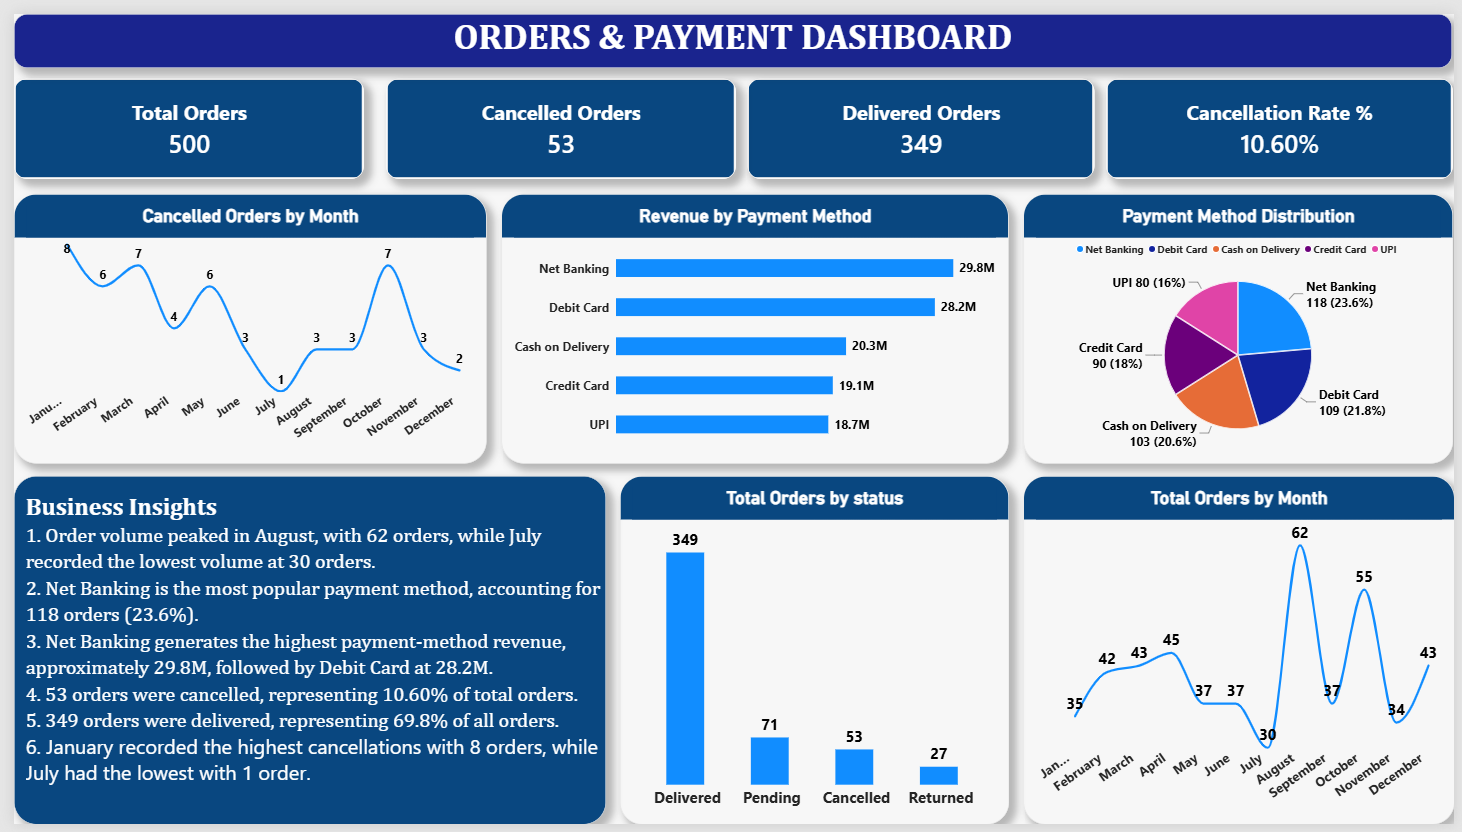

The page's visual inventory and layout, read from the dashboard file:
{"tool":"powerbi","page":{"name":"Orders & Payment Dashboard","canvas":[1920,1080],"ordinal":3},"visuals":[{"type":"cardVisual","fields":{"Data":["orders.Total Orders"]},"box":[0,86.8,467,134.3],"z":0},{"type":"cardVisual","fields":{"Data":["orders.Delivered Orders"]},"box":[977.4,86.8,462.9,134.3],"z":1000},{"type":"cardVisual","fields":{"Data":["orders.Cancelled Orders"]},"box":[495.9,86.8,467,134.3],"z":2000},{"type":"cardVisual","fields":{"Data":["orders.Cancellation Rate %"]},"box":[1456.8,86.8,462.9,134.3],"z":3000},{"type":"barChart","title":"Revenue by Payment Method","fields":{"Category":["orders.payment_method"],"Y":["order_items.Total Revenue"]},"box":[650.9,239.7,675.7,359.5],"z":4000},{"type":"pieChart","title":"Payment Method Distribution","fields":{"Category":["orders.payment_method"],"Y":["orders.Orders by Payment Method"]},"box":[1345.2,239.7,572.4,359.5],"z":5000},{"type":"lineChart","fields":{"Category":["Calendar.Date.Variation.Date Hierarchy.Month","Calendar.Date.Variation.Date Hierarchy.Day"],"Y":["orders.Cancelled Orders"]},"box":[0,239.7,630.2,359.5],"z":6000},{"type":"clusteredColumnChart","fields":{"Category":["orders.status"],"Y":["orders.Total Orders"]},"box":[807.9,615.8,518.7,464.9],"z":7000},{"type":"textbox","box":[0,615.8,789.4,464.9],"z":8000},{"type":"textbox","box":[0,0,1917.6,72.3],"z":9000},{"type":"lineChart","fields":{"Category":["Calendar.Date.Variation.Date Hierarchy.Month","Calendar.Date.Variation.Date Hierarchy.Day"],"Y":["orders.Total Orders"]},"box":[1345.2,615.8,574.5,464.9],"z":10000}]}

Visuals, with their boxes in screenshot pixels (x1, y1, x2, y2), scaled from the page's 1920x1080 canvas onto the 1462x832 screenshot:
cardVisual - orders.Total Orders: x1=0 y1=67 x2=356 y2=170
cardVisual - orders.Delivered Orders: x1=744 y1=67 x2=1097 y2=170
cardVisual - orders.Cancelled Orders: x1=378 y1=67 x2=733 y2=170
cardVisual - orders.Cancellation Rate %: x1=1109 y1=67 x2=1461 y2=170
"Revenue by Payment Method" barChart: x1=496 y1=185 x2=1010 y2=462
"Payment Method Distribution" pieChart: x1=1024 y1=185 x2=1460 y2=462
lineChart - Calendar.Date.Variation.Date Hierarchy.Month x Calendar.Date.Variation.Date Hierarchy.Day: x1=0 y1=185 x2=480 y2=462
clusteredColumnChart - orders.status x orders.Total Orders: x1=615 y1=474 x2=1010 y2=831
textbox: x1=0 y1=474 x2=601 y2=831
textbox: x1=0 y1=0 x2=1460 y2=56
lineChart - Calendar.Date.Variation.Date Hierarchy.Month x Calendar.Date.Variation.Date Hierarchy.Day: x1=1024 y1=474 x2=1461 y2=831
